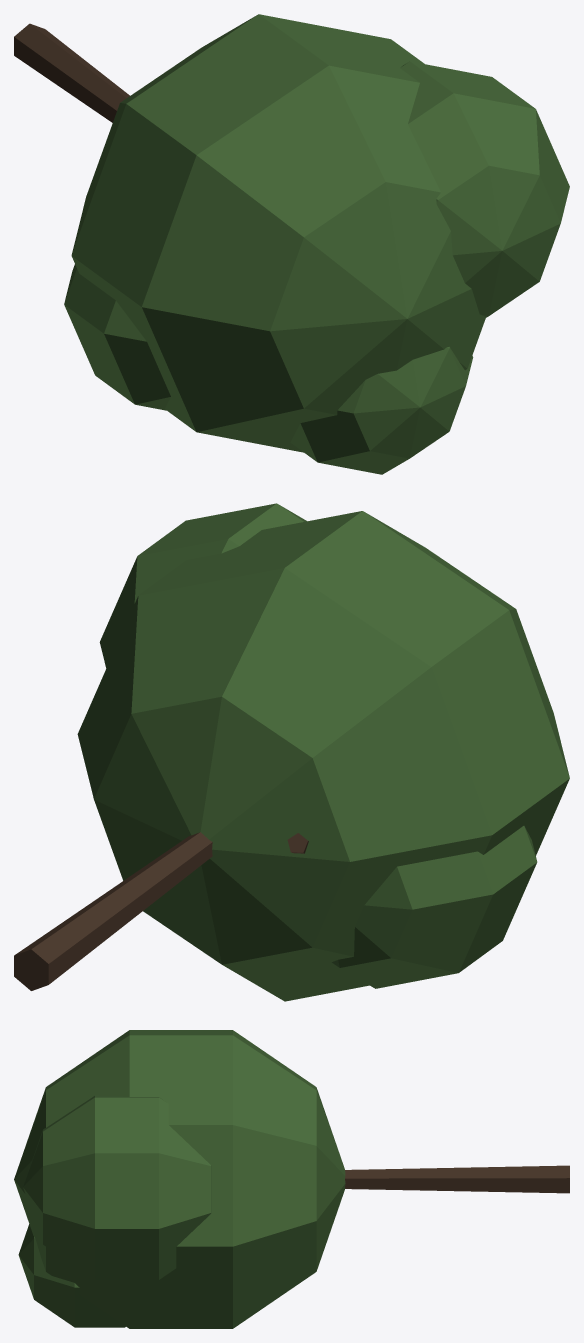
Rendered from tree-broadleaf.glb.
3 views of the same model, one above another, from view 1: azimuth 30°, elevation 25°; view 2: azimuth 150°, elevation 25°; view 3: azimuth 270°, elevation 25° (orthographic). The views are drawn at different scales.
Parts seen in each view (by area): view 1: tree-broadleaf; view 2: tree-broadleaf; view 3: tree-broadleaf.
Boxes of the visible parts, x1,y1,x2,y2 form: tree-broadleaf: [14, 14, 569, 474]; tree-broadleaf: [14, 503, 569, 1001]; tree-broadleaf: [14, 1030, 569, 1328].
Size of the model in its own units: 3.84 by 3.52 by 6.15.
